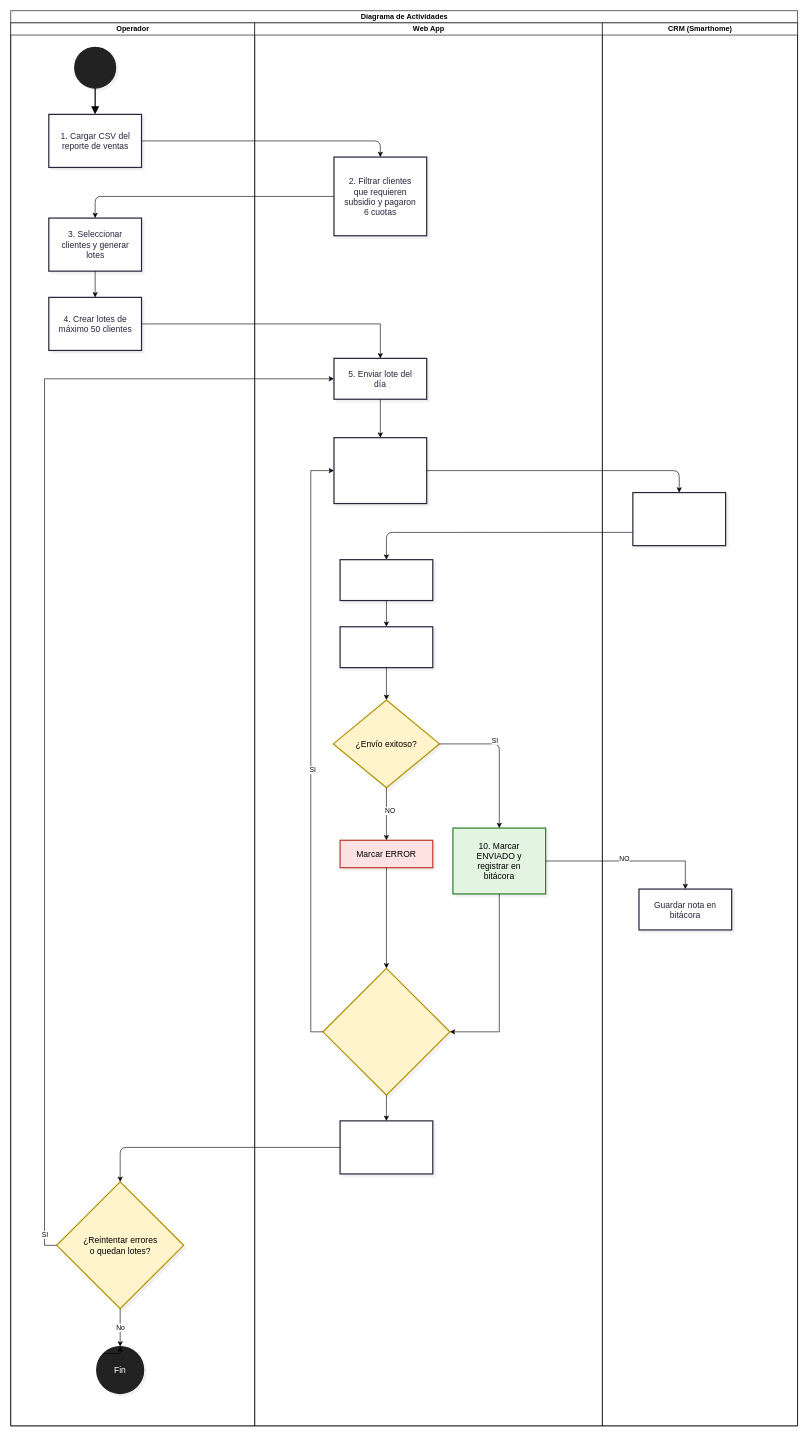
This 808x1437 diagram has some shape labels left out. The shapes that lost their labels are listed below. From the top down, each one's centre as x and y in pixels, then its label:
At [96,68]: "Inicio".
At [381,471]: "6. Consultar correo y certificado del cliente".
At [680,520]: "7. Entregar correo y datos del certificado".
At [387,581]: "8. Generar PDF del certificado".
At [387,648]: "9. Enviar correo con el PDF".
At [387,1032]: "¿Quedan clientes en el lote?".
At [387,1148]: "11. Mostrar resultados del lote".
